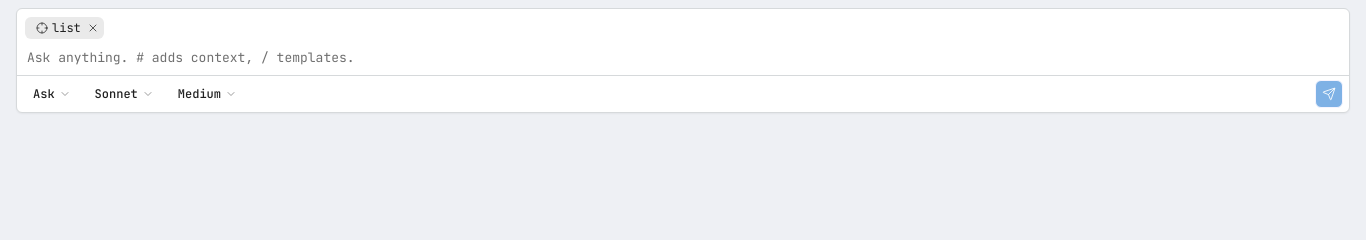
it: Composer › remembers the effort the user picks, apart from the model
Click the button with aria-label "Effort: Medium".
click(207, 94)  # box [168,80,247,108]
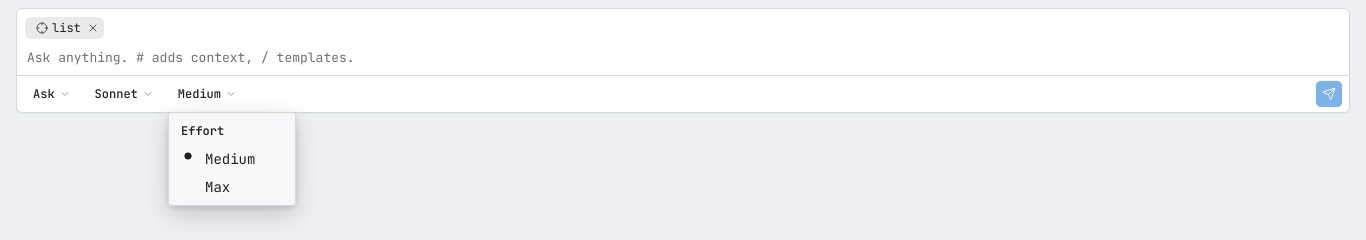
Click the menu item "Max".
click(218, 187)  # box [205,178,230,196]
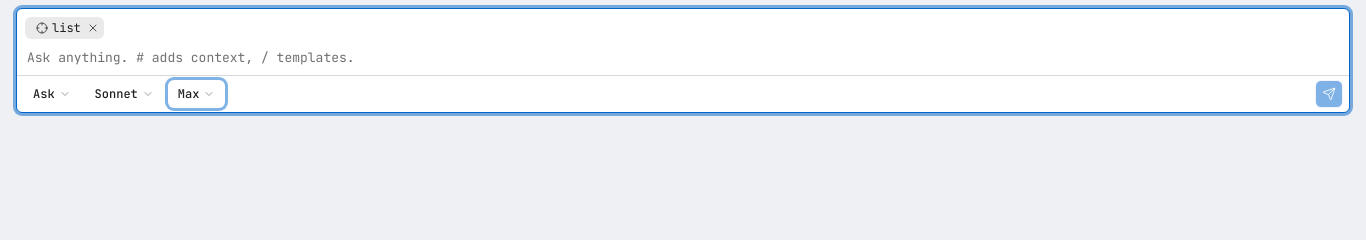
Expected: the button with aria-label "Effort: Max" is shown, [168,80,225,108]
